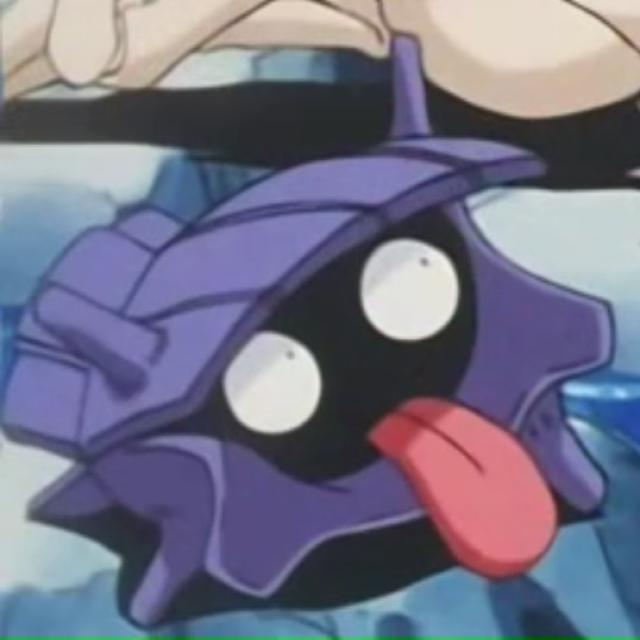Shellder: (58, 145, 564, 590)
